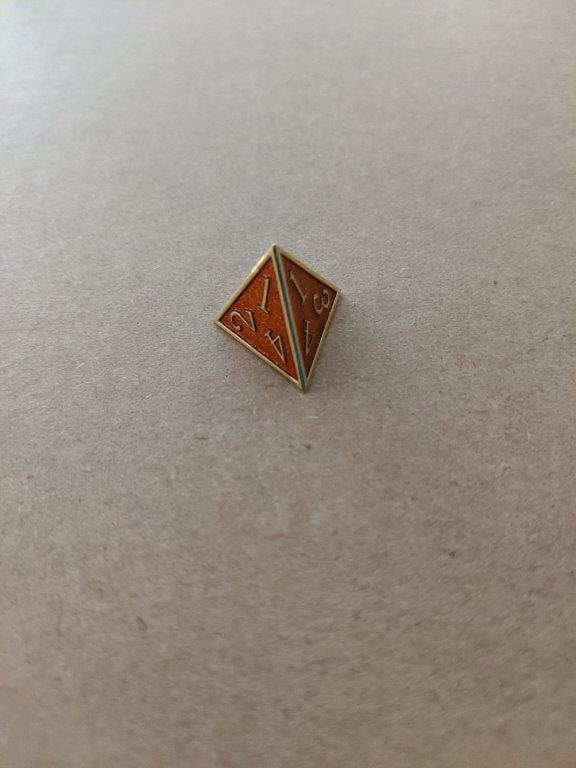d4-1: (202, 241, 348, 400)
